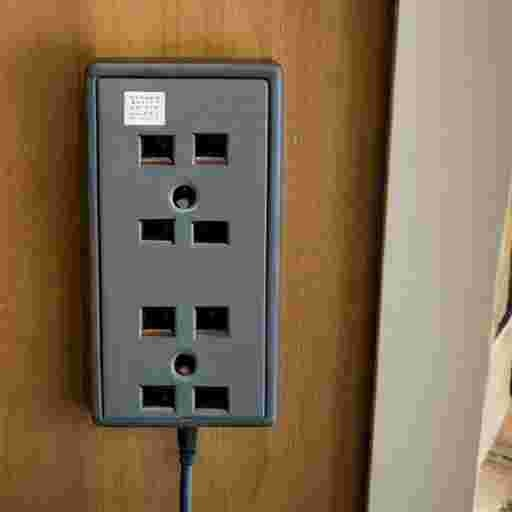power outlet: (88, 63, 282, 424)
